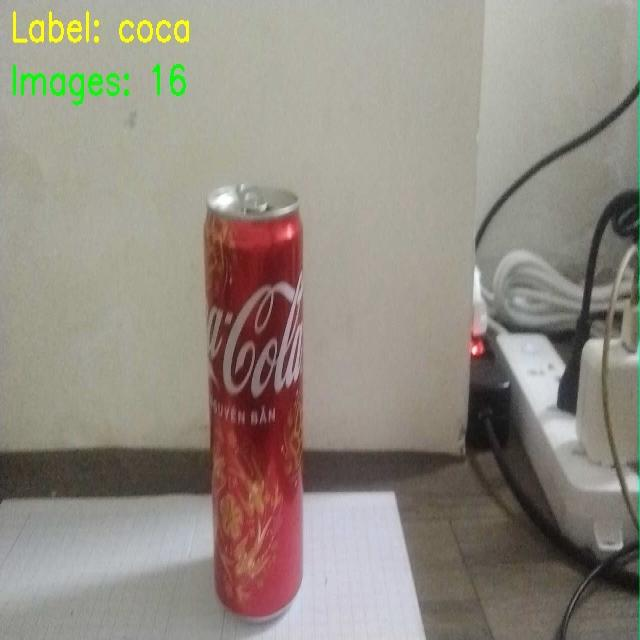Coca: (175, 176, 325, 630)
